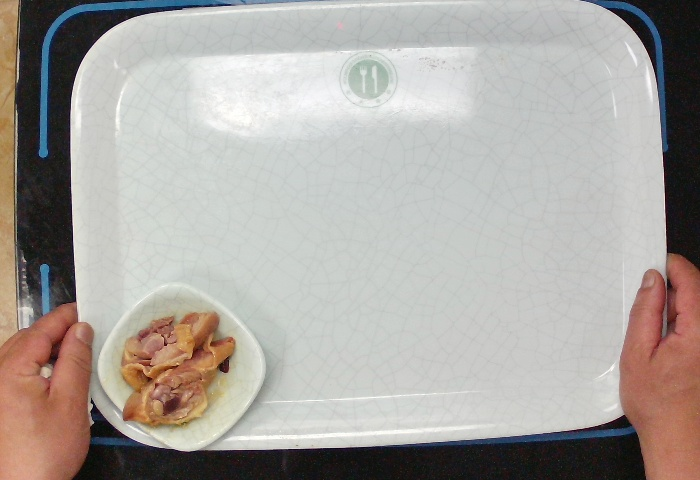JYsf-Si_Fang_Die: (85, 273, 272, 455)
